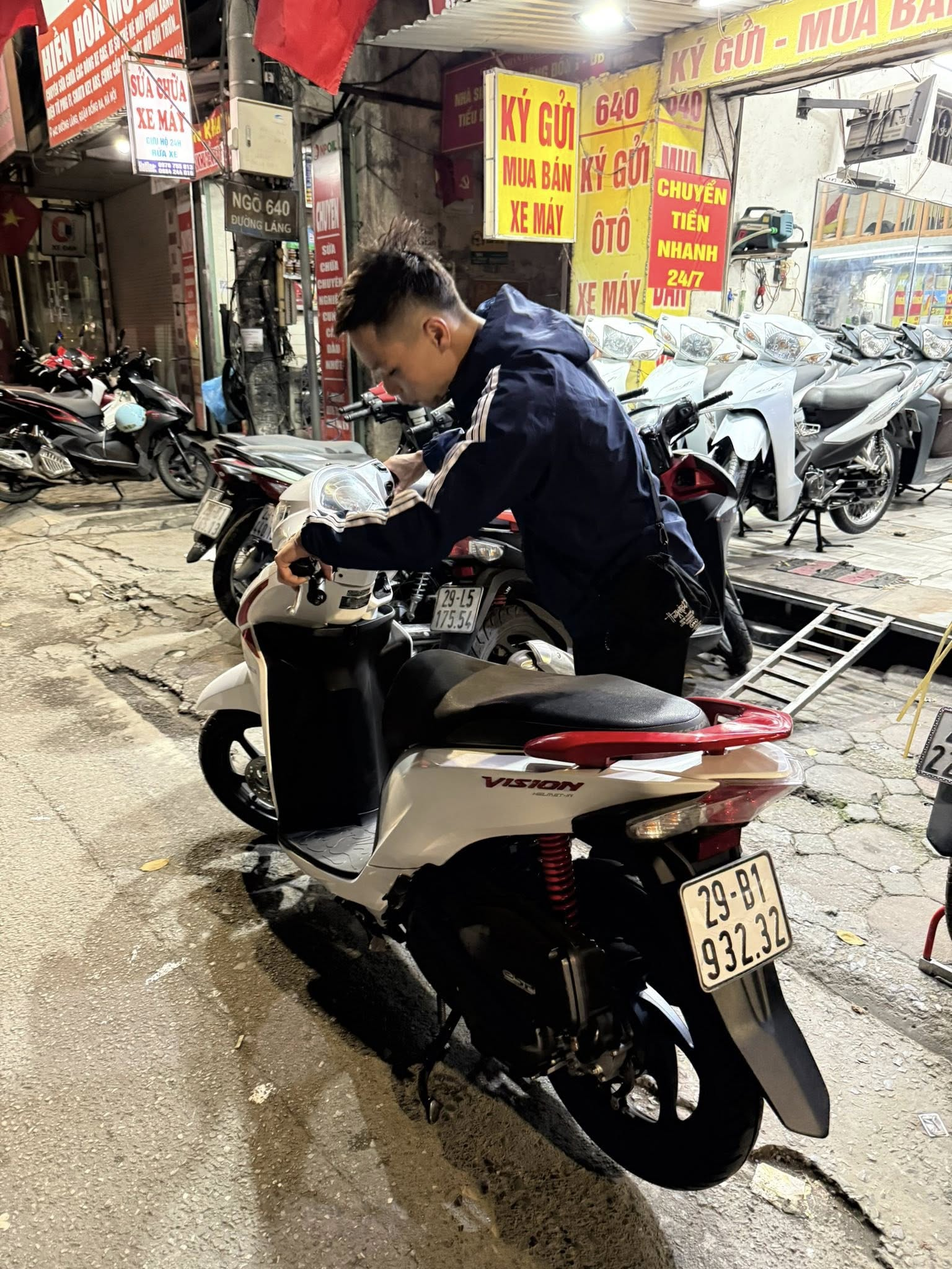bien_so: (663, 847, 812, 999)
